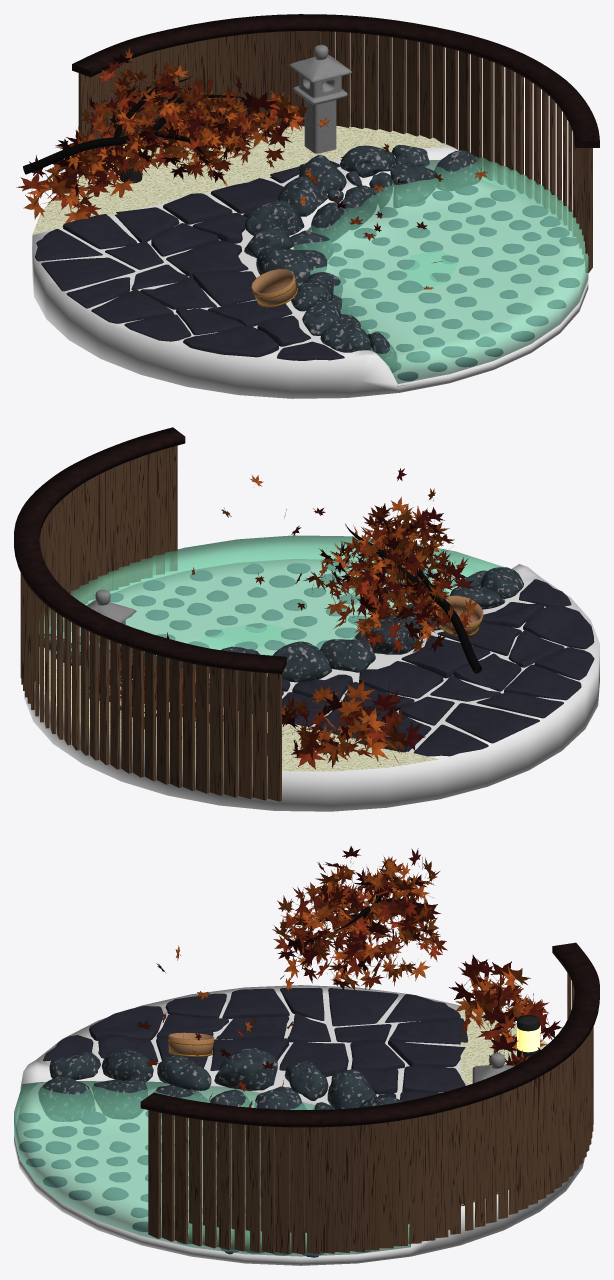
Rendered from miniature_hot_spring_autumn.glb.
3 renders of one model, top to bottom at view 1: azimuth 30°, elevation 25°; view 2: azimuth 150°, elevation 25°; view 3: azimuth 270°, elevation 25°, orthographic. The views are drawn at different scales.
Visible parts, largest first — view 1: BaseStage, Water, Wall, Floor.001, Rock, Tree Leaves, BathFloor, WallTop.001, Sand, Leaves.001, Toro, Leaves.002 (+3 smaller); view 2: Wall, BaseStage, Floor.001, Water, Tree Leaves, WallTop.001, Rock, Leaves.001, BathFloor, Sand, Tree, Toro (+3 smaller); view 3: Wall, Floor.001, BaseStage, Water, Rock, Tree Leaves, WallTop.001, BathFloor, Leaves.001, Sand, Oke, FallingLeaves (+1 smaller).
Boxes of the visible parts, bbox=[...] form: BaseStage: bbox=[32, 143, 588, 398]; Water: bbox=[293, 156, 588, 386]; Wall: bbox=[78, 31, 592, 272]; Floor.001: bbox=[35, 157, 344, 360]; Rock: bbox=[244, 145, 480, 372]; Tree Leaves: bbox=[55, 46, 252, 187]; BathFloor: bbox=[328, 186, 583, 380]; WallTop.001: bbox=[72, 14, 599, 147]; Sand: bbox=[32, 125, 447, 234]; Leaves.001: bbox=[16, 130, 149, 223]; Toro: bbox=[288, 44, 352, 153]; Leaves.002: bbox=[174, 73, 307, 171]; Wall: bbox=[20, 445, 281, 801]; BaseStage: bbox=[24, 559, 599, 811]; Floor.001: bbox=[120, 579, 594, 756]; Water: bbox=[39, 535, 504, 655]; Tree Leaves: bbox=[303, 497, 478, 654]; WallTop.001: bbox=[14, 427, 286, 674]; Rock: bbox=[39, 567, 523, 682]; Leaves.001: bbox=[267, 679, 425, 769]; BathFloor: bbox=[56, 561, 456, 655]; Sand: bbox=[35, 648, 438, 771]; Tree: bbox=[346, 515, 481, 673]; Toro: bbox=[79, 589, 136, 700]; Wall: bbox=[148, 973, 593, 1254]; Floor.001: bbox=[43, 987, 468, 1101]; BaseStage: bbox=[14, 985, 584, 1265]; Water: bbox=[14, 1081, 410, 1256]; Rock: bbox=[38, 1047, 402, 1121]; Tree Leaves: bbox=[272, 846, 447, 990]; WallTop.001: bbox=[140, 942, 599, 1127]; BathFloor: bbox=[19, 1111, 371, 1257]; Leaves.001: bbox=[449, 955, 562, 1053]; Sand: bbox=[460, 1004, 547, 1205]; Oke: bbox=[168, 1032, 214, 1056]; FallingLeaves: bbox=[136, 945, 294, 1107].
Size of the model in its own units: 12.57 by 5.71 by 12.61.
15 materials, 8 textured.
